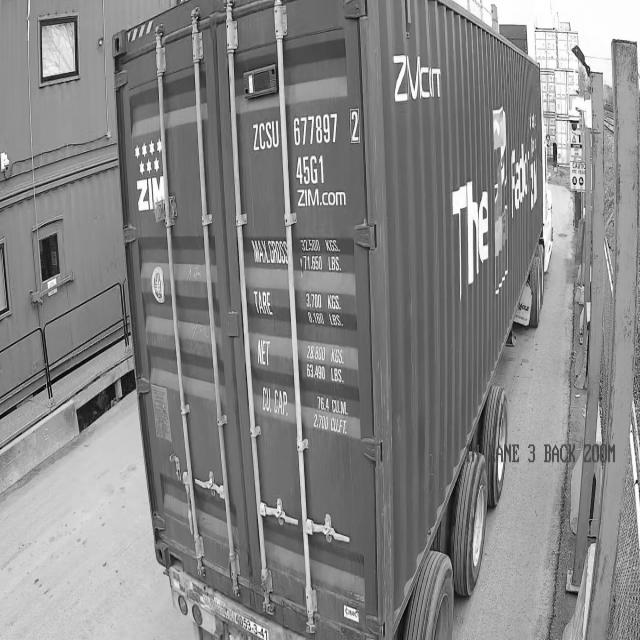container_company_logo: (127, 138, 184, 223)
container_number: (250, 103, 370, 185)
other_container_info: (251, 233, 364, 450)
truck_with_container: (112, 0, 552, 639)
